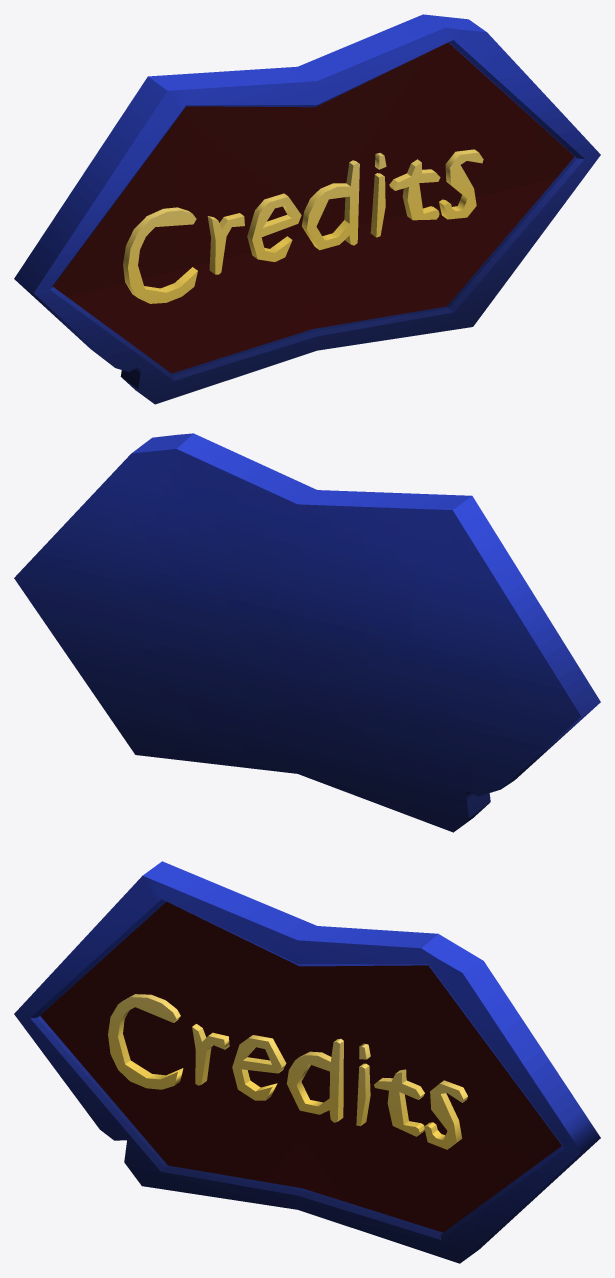
The model's file is OBJ_CreditSign.fbx.
3 views of the same model, one above another, from view 1: azimuth 30°, elevation 25°; view 2: azimuth 150°, elevation 25°; view 3: azimuth 330°, elevation 25° (orthographic).
Parts seen in each view (by area): view 1: Credit_sign; view 2: Credit_sign; view 3: Credit_sign.
Part boxes in pixels (box(x1,y1,x2,y2)): Credit_sign: box(14, 14, 600, 404); Credit_sign: box(14, 433, 600, 832); Credit_sign: box(14, 861, 600, 1263).
Bounding box in the file's own units: 144 × 76.89 × 11.27.
